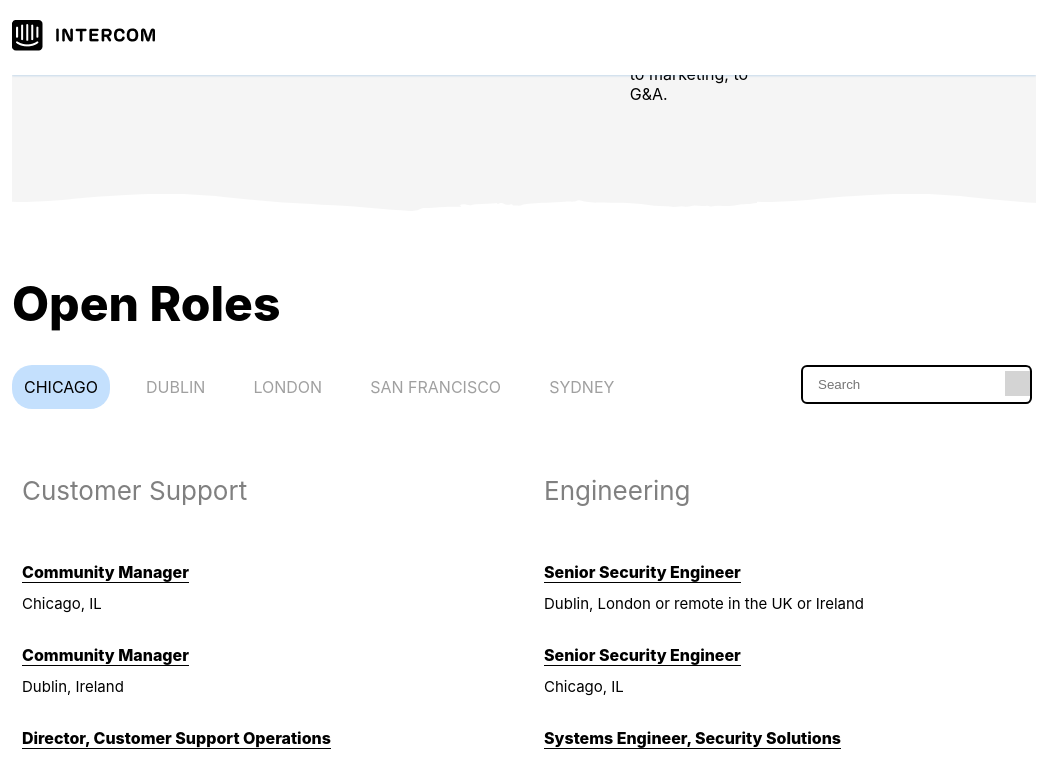
Test: loads and displays 5 office locations › should render a search bar and displays an error when no match
The image size is (1048, 761).
(page scrolled)
Type "Some random text" into the search field with test id "search-input" at (916, 385), box [801, 365, 1032, 404]
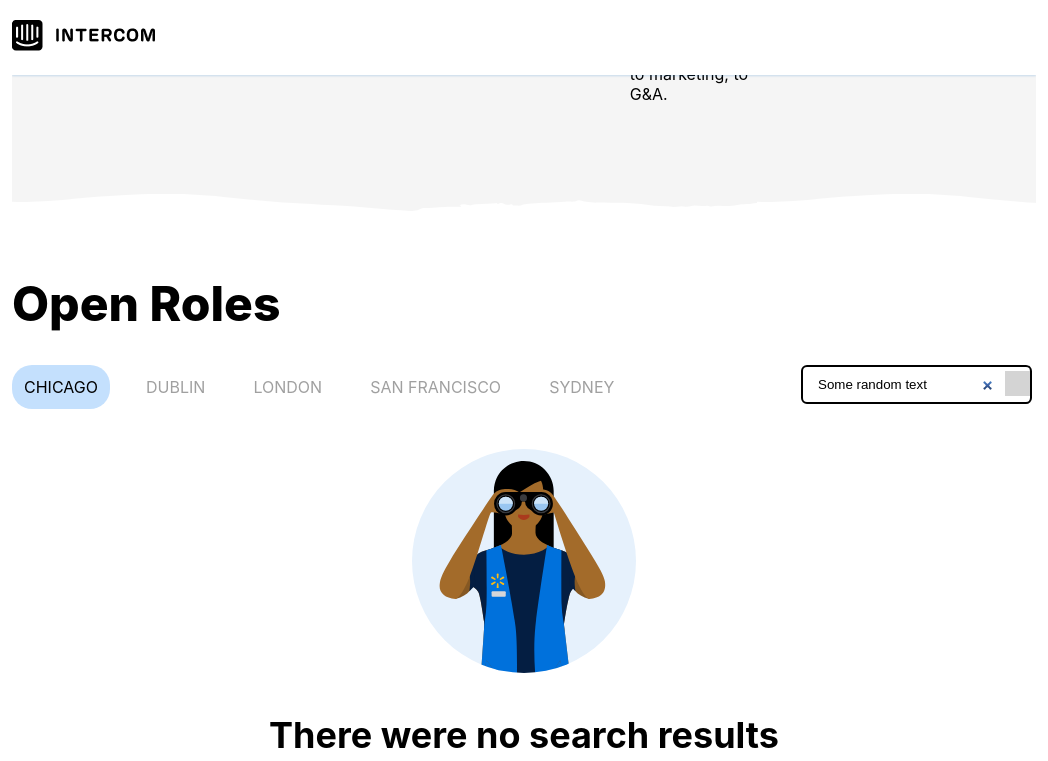
Expected: the picture named "No Results found" is shown, [412, 449, 636, 673]
Expected: the text "There were no search results" is shown, [269, 713, 779, 757]
